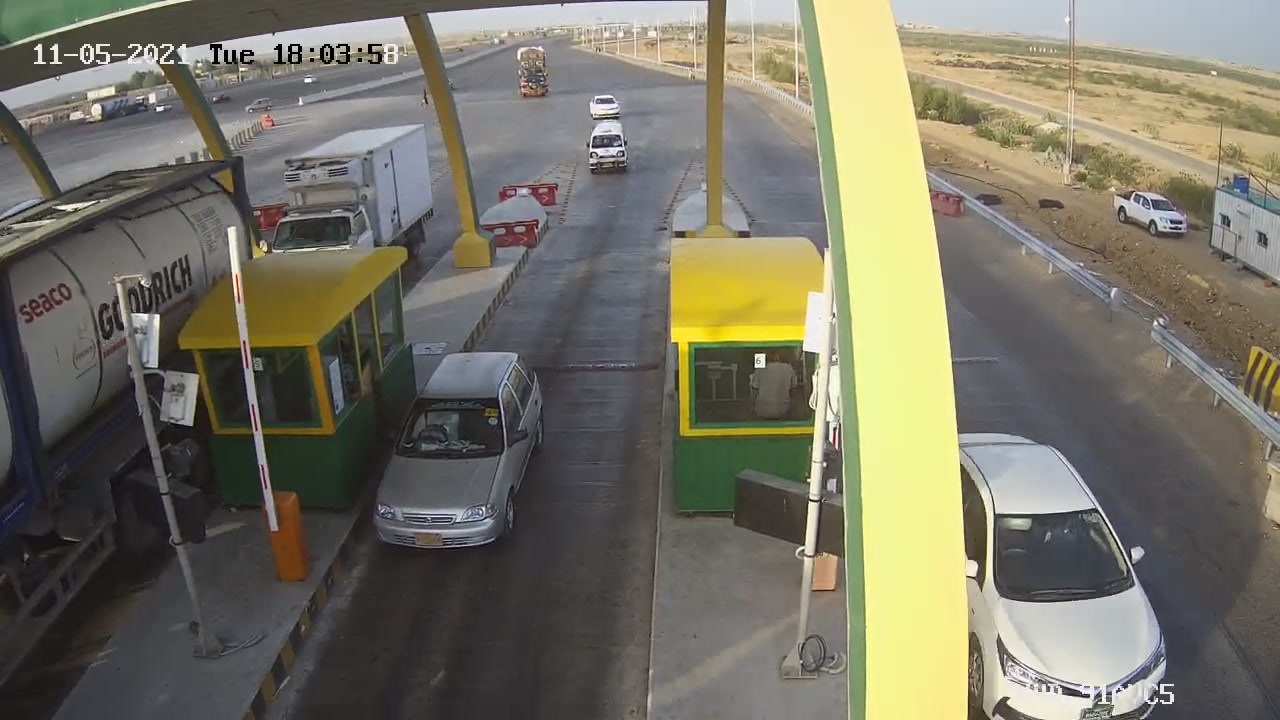F1: (361, 331, 565, 568)
